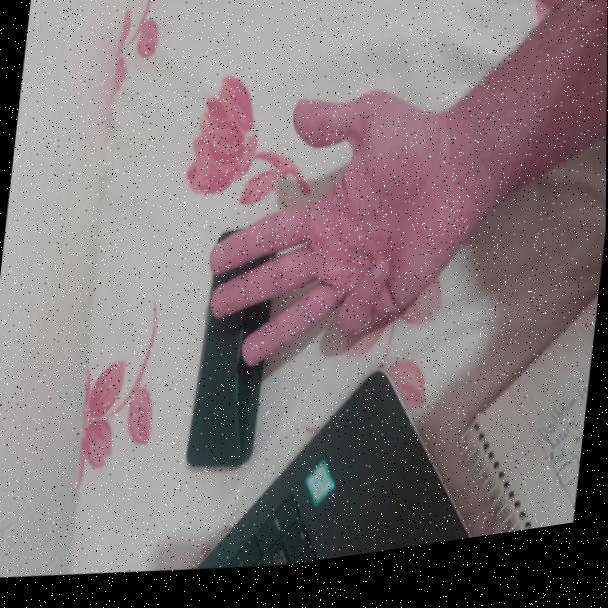five: (194, 55, 494, 416)
